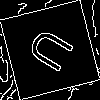U: (25, 25, 84, 80)
